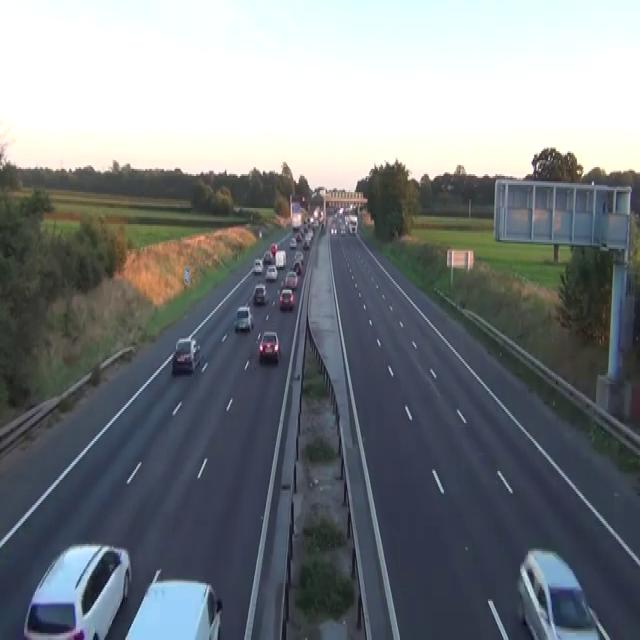Car: (23, 542, 131, 638), (516, 548, 602, 638), (124, 567, 222, 638), (172, 338, 200, 373), (586, 603, 612, 638), (330, 206, 357, 236), (258, 330, 279, 362), (233, 304, 253, 331), (279, 288, 294, 309), (253, 283, 267, 304), (284, 270, 298, 290), (265, 265, 277, 281), (253, 258, 263, 274), (292, 260, 302, 274), (263, 249, 272, 263), (293, 251, 303, 263), (289, 236, 296, 249), (302, 238, 310, 249), (295, 231, 303, 242), (305, 229, 313, 240), (270, 242, 277, 254), (330, 224, 337, 235), (233, 204, 241, 213), (339, 224, 345, 235), (446, 182, 454, 190), (318, 212, 323, 222), (309, 215, 314, 224), (339, 206, 343, 215), (259, 230, 262, 238)
Truck: (291, 199, 302, 229), (347, 215, 357, 233)
